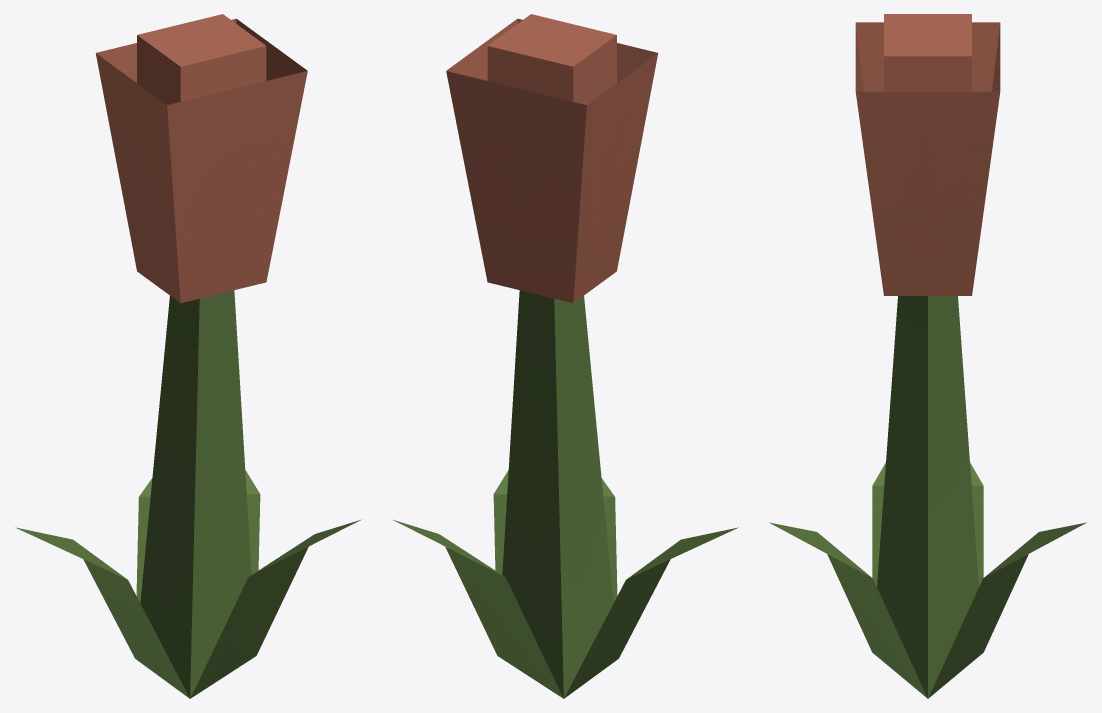
Rendered from flower.glb.
3 renders of one model, left to right at view 1: azimuth 30°, elevation 25°; view 2: azimuth 150°, elevation 25°; view 3: azimuth 270°, elevation 25°, orthographic.
Parts seen in each view (by area): view 1: flower; view 2: flower; view 3: flower.
Boxes of the visible parts, x1,y1,x2,y2 form: flower: [15, 14, 361, 698]; flower: [392, 14, 738, 698]; flower: [769, 14, 1086, 698].
Size of the model in its own units: 0.25 by 0.55 by 0.25.
